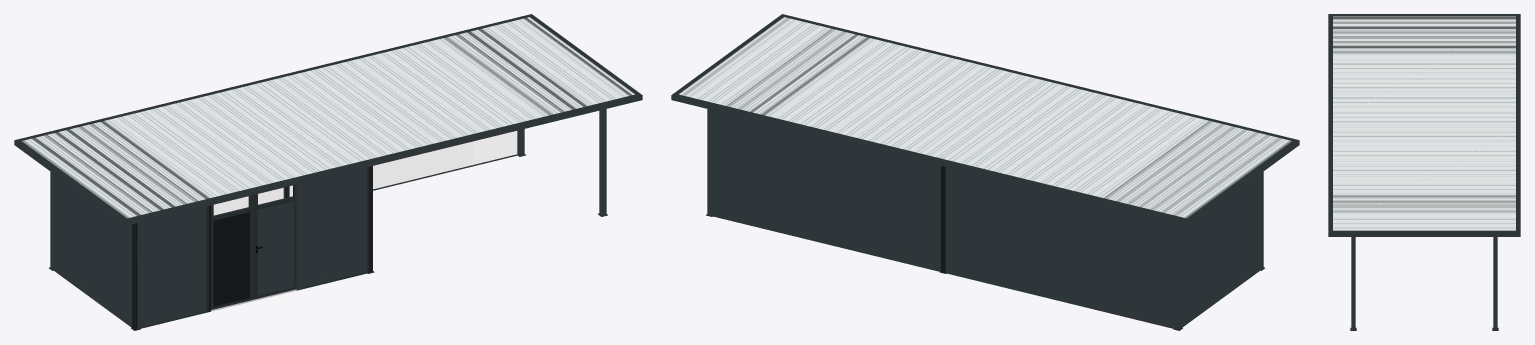
3 renders of one model, left to right at view 1: azimuth 30°, elevation 25°; view 2: azimuth 150°, elevation 25°; view 3: azimuth 270°, elevation 25°, orthographic. The views are drawn at different scales.
Parts seen in each view (by area): view 1: priximbattable_net_abris_de_jardin_640009_pool_house_azalee_, folha, folha_2, porta_avec_hublot; view 2: priximbattable_net_abris_de_jardin_640009_pool_house_azalee_; view 3: priximbattable_net_abris_de_jardin_640009_pool_house_azalee_.
Part boxes in pixels (x1,y1,x2,y2): priximbattable_net_abris_de_jardin_640009_pool_house_azalee_: (14,14,642,330); folha: (211,194,255,309); folha_2: (255,184,296,299); porta_avec_hublot: (206,183,301,312); priximbattable_net_abris_de_jardin_640009_pool_house_azalee_: (671,14,1299,330); priximbattable_net_abris_de_jardin_640009_pool_house_azalee_: (1328,14,1520,330).
Bounding box in the file's own units: 1130 × 259 × 420.
1 material, 1 textured.
